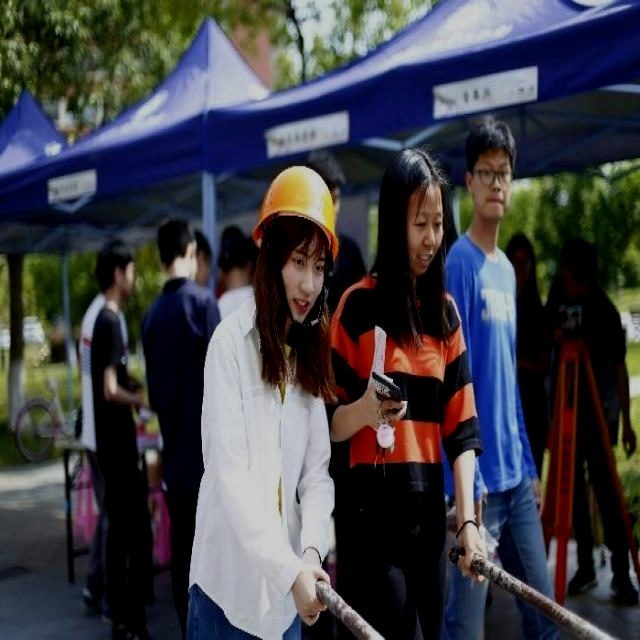Con_Casco: (253, 167, 338, 309)
Sin_Casco_Mascarrilla: (380, 144, 444, 282), (465, 115, 517, 219)
